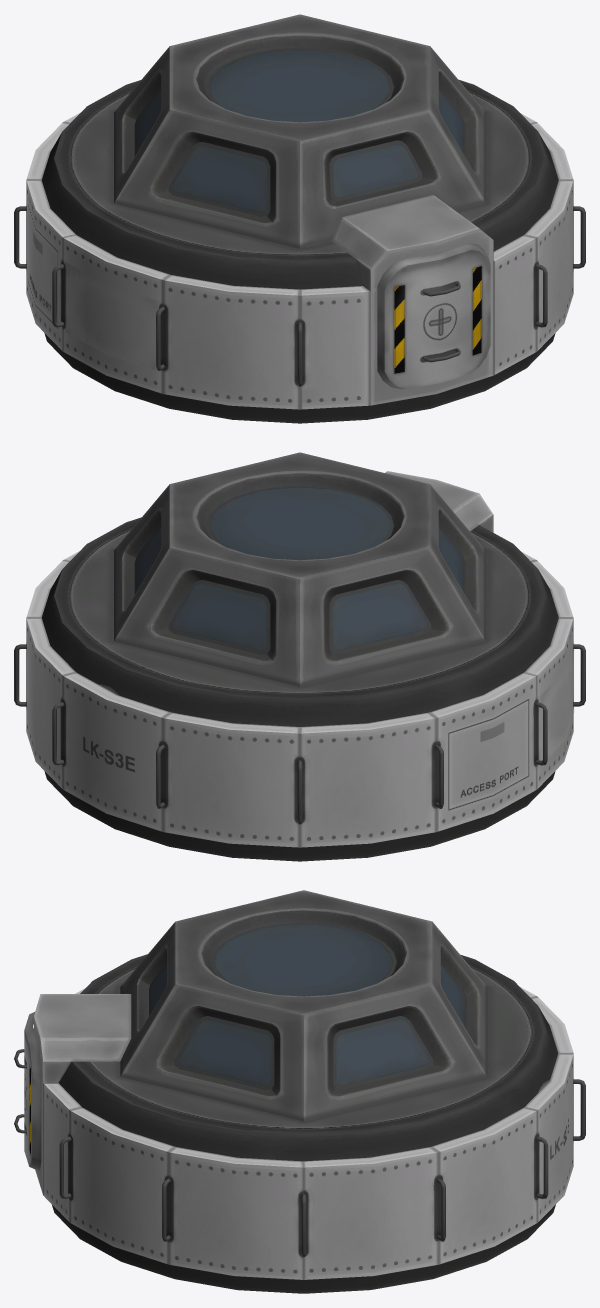
File: Cupola.glb
3 renders of one model, top to bottom at view 1: azimuth 30°, elevation 25°; view 2: azimuth 150°, elevation 25°; view 3: azimuth 270°, elevation 25°, orthographic.
Visible parts, largest first — view 1: obj_base, flagTransform; view 2: obj_base; view 3: obj_base.
Boxes of the visible parts, left/top/right/bottom form: obj_base: left=14, top=14, right=585, bottom=423; flagTransform: left=65, top=262, right=157, bottom=370; obj_base: left=14, top=452, right=585, bottom=861; obj_base: left=14, top=890, right=585, bottom=1293.
Size of the model in its own units: 2.73 by 1.24 by 2.77.
Materials: 2 (2 with a texture image).
